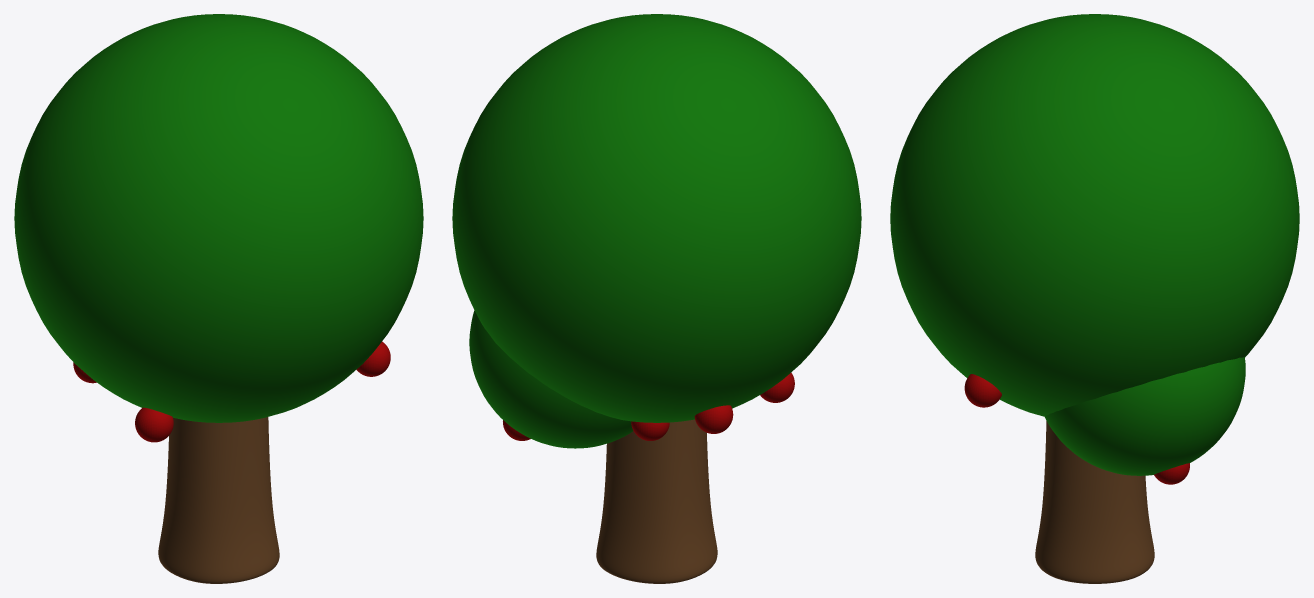
File: Tree 3.fbx
3 renders of one model, left to right at view 1: azimuth 30°, elevation 25°; view 2: azimuth 150°, elevation 25°; view 3: azimuth 270°, elevation 25°, orthographic.
Visible parts, largest first — view 1: Sphere, Cube, Sphere.002, Sphere.005; view 2: Sphere, Cube, Sphere.001, Sphere.003, Sphere.006, Sphere.002; view 3: Sphere, Sphere.001, Cube, Sphere.005.
Boxes of the visible parts, x1,y1,x2,y2 form: Sphere: [14, 14, 423, 422]; Cube: [158, 417, 279, 583]; Sphere.002: [135, 407, 173, 442]; Sphere.005: [356, 341, 390, 376]; Sphere: [452, 14, 861, 422]; Cube: [596, 419, 717, 583]; Sphere.001: [469, 310, 633, 448]; Sphere.003: [694, 405, 733, 433]; Sphere.006: [631, 421, 669, 440]; Sphere.002: [760, 372, 794, 402]; Sphere: [890, 14, 1299, 416]; Sphere.001: [1044, 357, 1245, 475]; Cube: [1035, 421, 1154, 583]; Sphere.005: [964, 374, 1001, 407].
Bounding box in the file's own units: 380 × 541 × 380.
